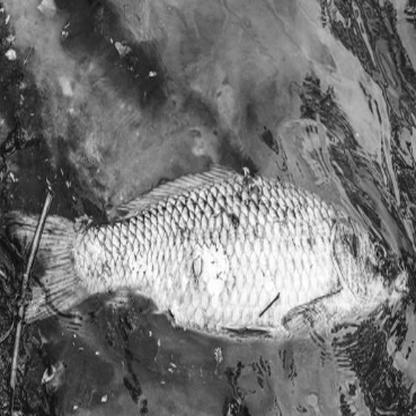deceased fish: (13, 179, 407, 352)
